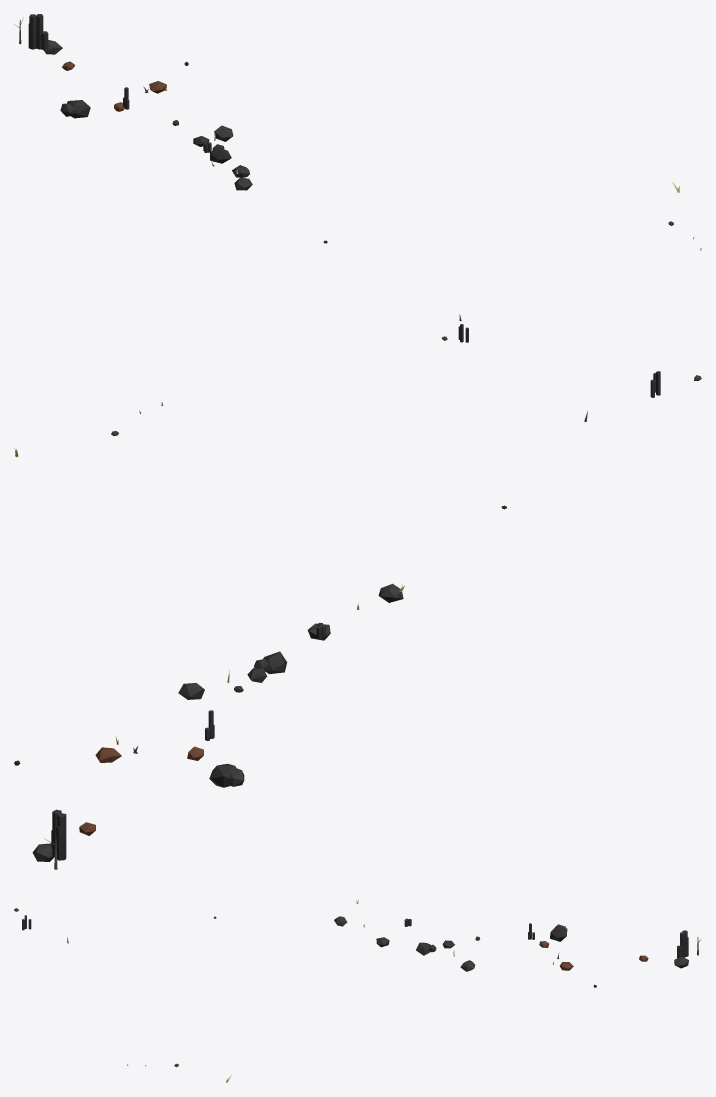
File: ash_land_scatter_c22_28_lod1.glb
The picture shows the model from 3 angles, top to bottom: view 1: azimuth 30°, elevation 25°; view 2: azimuth 150°, elevation 25°; view 3: azimuth 270°, elevation 25°; orthographic projection. The views are drawn at different scales.
Visible parts, largest first — view 1: ash_land_scatter_c22_28_lod1; view 2: ash_land_scatter_c22_28_lod1; view 3: ash_land_scatter_c22_28_lod1.
Boxes of the visible parts, x1,y1,x2,y2 form: ash_land_scatter_c22_28_lod1: (14, 14, 701, 342); ash_land_scatter_c22_28_lod1: (14, 371, 701, 869); ash_land_scatter_c22_28_lod1: (14, 899, 700, 1082).
Size of the model in its own units: 101 by 15.73 by 202.
